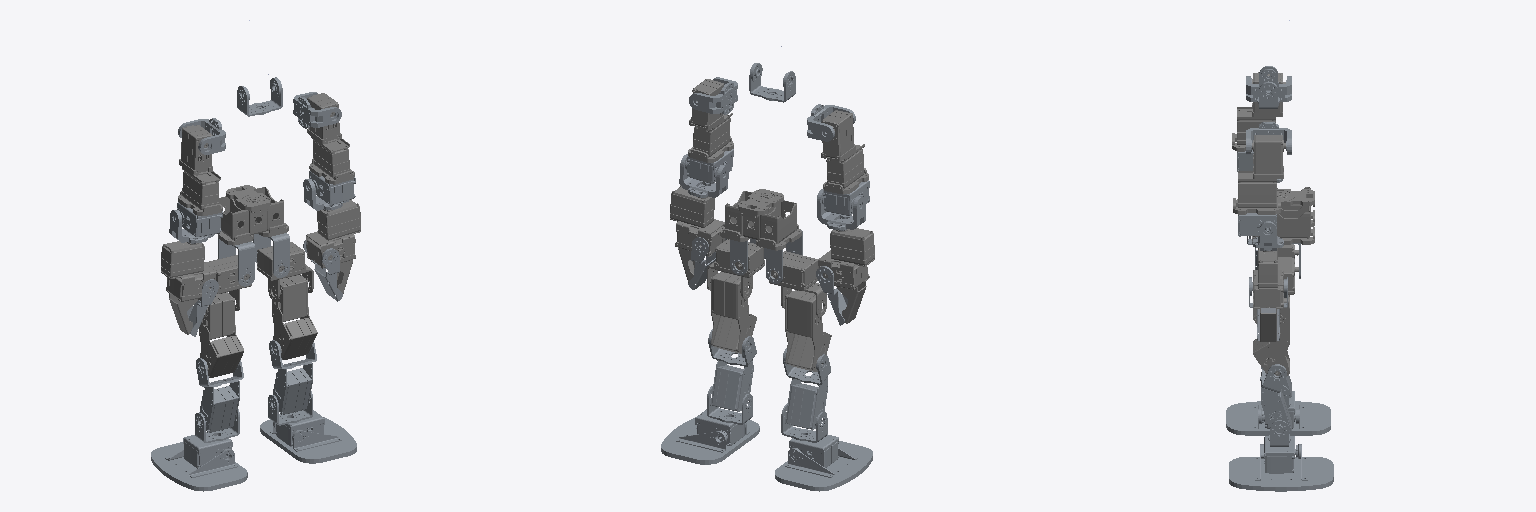
--- Facts derived from the render (not from the file) ---
3 views of the same robot in one strip: view 1: azimuth 30°, elevation 25°; view 2: azimuth 150°, elevation 25°; view 3: azimuth 270°, elevation 25° (orthographic).
Robot: robokit-atom — 30 links, 29 joints (27 continuous, 2 fixed); root link trunk; default pose: every joint at zero.
Links seen in each view (by area): view 1: pelvis, right_hand, right_foot, right_humerus, left_knee_link, left_hand, right_knee_link, left_humerus, left_foot, tibia_2, tibia_1, right_ankle_joint (+14 smaller); view 2: pelvis, right_hand, right_foot, right_knee_link, left_knee_link, left_hand, right_humerus, left_foot, tibia_2, tibia_1, left_humerus, right_ankle_joint (+14 smaller); view 3: left_foot, left_humerus, right_foot, left_hand, pelvis, tibia_2, left_ankle_joint, right_humerus, left_knee_link, u_neck, u_shoulder_1, left_pre_elbow (+3 smaller).
Link boxes in pixels (x1,y1,x2,y2): pelvis: (217,185,288,245); right_hand: (161,241,216,334); right_foot: (151,442,247,491); right_humerus: (178,125,222,215); left_knee_link: (272,274,317,359); left_hand: (306,199,360,293); right_knee_link: (199,292,243,377); left_humerus: (307,93,354,184); left_foot: (260,417,356,463); tibia_2: (269,340,316,414); tibia_1: (196,358,243,432); right_ankle_joint: (183,409,239,468); pelvis: (720,189,801,250); right_hand: (818,228,874,323); right_foot: (775,441,872,491); right_knee_link: (785,290,831,371); left_knee_link: (711,272,756,353); left_hand: (670,185,724,282); right_humerus: (821,110,868,194); left_foot: (661,417,759,464); tibia_2: (708,329,756,411); tibia_1: (783,348,830,430); left_humerus: (688,79,733,162); right_ankle_joint: (781,403,838,467); left_foot: (1229,444,1333,491); left_humerus: (1233,135,1285,214); right_foot: (1226,401,1330,435); left_hand: (1253,248,1283,341); pelvis: (1277,187,1314,244); tibia_2: (1260,364,1291,433); left_ankle_joint: (1264,408,1295,473); right_humerus: (1232,72,1285,151); left_knee_link: (1253,297,1289,375); u_neck: (1257,66,1279,108); u_shoulder_1: (1246,122,1291,154); left_pre_elbow: (1238,213,1276,236).
Bounding box of the posed robot: 0.2315 × 0.1123 × 0.494 m (x, y, z).
28 mesh visuals loaded from 30 distinct referenced files (28 binary STL); not drawn: 2 (reference not matched to a file when rendering).

robot.urdf — robokit-atom:
<?xml version="1.0" encoding="utf-8"?>

<!-- This URDF was automatically created by SolidWorks to URDF Exporter! Originally created by Stephen Brawner ([email redacted]) 

     Commit Version: 1.5.1-0-g916b5db  Build Version: 1.5.7152.31018

     For more information, please see http://wiki.ros.org/sw_urdf_exporter -->

<robot

  name="robokit-atom">

  <link

    name="trunk_1">

    <inertial>

      <origin

        xyz="0.00049613750860005 0.0229004465041265 -0.0446042851087862"

        rpy="0 0 0" />

      <mass

        value="0.522855766489177" />

      <inertia

        ixx="0.0003953596679444"

        ixy="1.11055335813116E-05"

        ixz="-1.41906719822236E-05"

        iyy="0.000617061895947365"

        iyz="-3.18439228347428E-06"

        izz="0.000392043856997511" />

    </inertial>

    <visual>

      <origin

        xyz="0 0 0"

        rpy="0 0 0" />

      <geometry>

        <mesh

          filename="package://robokit-atom_description/meshes/trunk_1.STL" />

      </geometry>

      <material

        name="">

        <color

          rgba="1 1 1 1" />

      </material>

    </visual>

    <collision>

      <origin

        xyz="0 0 0"

        rpy="0 0 0" />

      <geometry>

        <mesh

          filename="package://robokit-atom_description/meshes/trunk_1.STL" />

      </geometry>

    </collision>

  </link>

  <link

    name="u_neck">

    <inertial>

      <origin

        xyz="0.000264320510941577 0.0109732648966059 2.62618581766351E-15"

        rpy="0 0 0" />

      <mass

        value="0.0130011392237544" />

      <inertia

        ixx="1.19761205374274E-06"

        ixy="-3.70987578659839E-08"

        ixz="-4.88114992164222E-19"

        iyy="3.01332251835639E-06"

        iyz="-2.06863229336064E-20"

        izz="3.38897431921528E-06" />

    </inertial>

    <visual>

      <origin

        xyz="0 0 0"

        rpy="0 0 0" />

      <geometry>

        <mesh

          filename="package://robokit-atom_description/meshes/u_neck.STL" />

      </geometry>

      <material

        name="">

        <color

          rgba="0.592156862745098 0.619607843137255 0.650980392156863 1" />

      </material>

    </visual>

    <collision>

      <origin

        xyz="0 0 0"

        rpy="0 0 0" />

      <geometry>

        <mesh

          filename="package://robokit-atom_description/meshes/u_neck.STL" />

      </geometry>

    </collision>

  </link>

  <joint

    name="head_yaw"

    type="continuous">

    <origin

      xyz="0 0 0.019"

      rpy="-1.57079632679489 0 0" />

    <parent

      link="trunk_1" />

    <child

      link="u_neck" />

    <axis

      xyz="0 -1 0" />

  </joint>

  <link

    name="head">

    <inertial>

      <origin

        xyz="0.0276477193295828 0.0902940685780666 6.05561842868105E-05"

        rpy="0 0 0" />

      <mass

        value="0.934314838511598" />

      <inertia

        ixx="0.00175455277925189"

        ixy="4.88565985944184E-07"

        ixz="1.14787027986893E-08"

        iyy="0.00166992848544266"

        iyz="-9.62356192001647E-09"

        izz="0.000900470746538532" />

    </inertial>

    <visual>

      <origin

        xyz="0 0 0"

        rpy="0 0 0" />

      <geometry>

        <mesh

          filename="package://robokit-atom_description/meshes/head.STL" />

      </geometry>

      <material

        name="">

        <color

          rgba="0.556862745098039 0.556862745098039 0.556862745098039 1" />

      </material>

    </visual>

    <collision>

      <origin

        xyz="0 0 0"

        rpy="0 0 0" />

      <geometry>

        <mesh

          filename="package://robokit-atom_description/meshes/head.STL" />

      </geometry>

    </collision>

  </link>

  <joint

    name="head_pitch"

    type="continuous">

    <origin

      xyz="0 0 0"

      rpy="-1.5707963267949 0 -1.5707963267949" />

    <parent

      link="u_neck" />

    <child

      link="head" />

    <axis

      xyz="0 0 -1" />

  </joint>

  <link

    name="camera">

    <inertial>

      <origin

        xyz="5.17649616747773E-15 -3.88578058618805E-16 -4.23272528138341E-16"

        rpy="0 0 0" />

      <mass

        value="9.75000000000002E-07" />

      <inertia

        ixx="4.06250000000002E-14"

        ixy="-3.62993542287724E-31"

        ixz="-6.38918570285991E-31"

        iyy="4.06250000000001E-14"

        iyz="1.59729642571498E-31"

        izz="4.06250000000001E-14" />

    </inertial>

    <visual>

      <origin

        xyz="0 0 0"

        rpy="0 0 0" />

      <geometry>

        <mesh

          filename="package://robokit-atom_description/meshes/camera.STL" />

      </geometry>

      <material

        name="">

        <color

          rgba="0.792156862745098 0.819607843137255 0.933333333333333 1" />

      </material>

    </visual>

    <collision>

      <origin

        xyz="0 0 0"

        rpy="0 0 0" />

      <geometry>

        <mesh

          filename="package://robokit-atom_description/meshes/camera.STL" />

      </geometry>

    </collision>

  </link>

  <joint

    name="camera_frame"

    type="fixed">

    <origin

      xyz="0.0267434099643198 0.0177641070913566 4.99999996526588E-05"

      rpy="1.5707963267949 1.5707963267949 0" />

    <parent

      link="head" />

    <child

      link="camera" />

    <axis

      xyz="0 0 0" />

  </joint>

  <link

    name="u_shoulder_1">

    <inertial>

      <origin

        xyz="1.81306358815192E-13 -0.000641340632855175 -0.00659345592171711"

        rpy="0 0 0" />

      <mass

        value="0.0216490959620493" />

      <inertia

        ixx="8.13105749894706E-06"

        ixy="-2.72040053565123E-14"

        ixz="-6.49595439019734E-17"

        iyy="2.9422881153757E-06"

        iyz="-1.2598330126321E-07"

        izz="6.99828015320693E-06" />

    </inertial>

    <visual>

      <origin

        xyz="0 0 0"

        rpy="0 0 0" />

      <geometry>

        <mesh

          filename="package://robokit-atom_description/meshes/u_shoulder_1.STL" />

      </geometry>

      <material

        name="">

        <color

          rgba="0.592156862745098 0.619607843137255 0.650980392156863 1" />

      </material>

    </visual>

    <collision>

      <origin

        xyz="0 0 0"

        rpy="0 0 0" />

      <geometry>

        <mesh

          filename="package://robokit-atom_description/meshes/u_shoulder_1.STL" />

      </geometry>

    </collision>

  </link>

  <joint

    name="left_shoulder_pitch"

    type="continuous">

    <origin

      xyz="0.0550528426020857 0 -0.0179999999999997"

      rpy="3.14159265358979 1.5707963267949 0" />

    <parent

      link="trunk_1" />

    <child

      link="u_shoulder_1" />

    <axis

      xyz="0 0 -1" />

  </joint>

  <link

    name="left_humerus">

    <inertial>

      <origin

        xyz="4.08381245486922E-11 -0.0366732817414739 0.0100052458144246"

        rpy="0 0 0" />

      <mass

        value="0.108055931314796" />

      <inertia

        ixx="2.30548285340524E-05"

        ixy="-4.22918553902952E-11"

        ixz="-4.2309939426367E-11"

        iyy="1.91321620950096E-05"

        iyz="1.78233142046821E-07"

        izz="1.39624498444794E-05" />

    </inertial>

    <visual>

      <origin

        xyz="0 0 0"

        rpy="0 0 0" />

      <geometry>

        <mesh

          filename="package://robokit-atom_description/meshes/left_humerus.STL" />

      </geometry>

      <material

        name="">

        <color

          rgba="0.556862745098039 0.556862745098039 0.556862745098039 1" />

      </material>

    </visual>

    <collision>

      <origin

        xyz="0 0 0"

        rpy="0 0 0" />

      <geometry>

        <mesh

          filename="package://robokit-atom_description/meshes/left_humerus.STL" />

      </geometry>

    </collision>

  </link>

  <joint

    name="left_shoulder_roll"

    type="continuous">

    <origin

      xyz="0 -0.00297186387086125 -0.0211471573979146"

      rpy="1.5707963267949 1.51843644923509 -3.14159265358979" />

    <parent

      link="u_shoulder_1" />

    <child

      link="left_humerus" />

    <axis

      xyz="0 0 -1" />

  </joint>

  <link

    name="left_pre_elbow">

    <inertial>

      <origin

        xyz="-3.20915361541607E-05 -0.0113594174393189 -0.0136782837699915"

        rpy="0 0 0" />

      <mass

        value="0.0462382384447892" />

      <inertia

        ixx="7.80369306780788E-06"

        ixy="-1.56147420130457E-08"

        ixz="8.92652080569709E-11"

        iyy="5.27906305675419E-06"

        iyz="1.65065109079581E-09"

        izz="1.01724089971967E-05" />

    </inertial>

    <visual>

      <origin

        xyz="0 0 0"

        rpy="0 0 0" />

      <geometry>

        <mesh

          filename="package://robokit-atom_description/meshes/left_pre_elbow.STL" />

      </geometry>

      <material

        name="">

        <color

          rgba="0.592156862745098 0.619607843137255 0.650980392156863 1" />

      </material>

    </visual>

    <collision>

      <origin

        xyz="0 0 0"

        rpy="0 0 0" />

      <geometry>

        <mesh

          filename="package://robokit-atom_description/meshes/left_pre_elbow.STL" />

      </geometry>

    </collision>

  </link>

  <joint

    name="left_shoulder_twirl"

    type="continuous">

    <origin

      xyz="0 -0.0710000000000001 0.00347186387084668"

      rpy="-1.5707963267949 0 0" />

    <parent

      link="left_humerus" />

    <child

      link="left_pre_elbow" />

    <axis

      xyz="0 0 -1" />

  </joint>

  <link

    name="left_elbow">

    <inertial>

      <origin

        xyz="1.40764620012307E-11 -0.016852909405683 0.000526043392192449"

        rpy="0 0 0" />

      <mass

        value="0.0263941052965311" />

      <inertia

        ixx="8.22620109048213E-06"

        ixy="4.886820398765E-16"

        ixz="-2.71402465090607E-14"

        iyy="7.16435420729983E-06"

        iyz="-1.25983301520662E-07"

        izz="3.03743170696094E-06" />

    </inertial>

    <visual>

      <origin

        xyz="0 0 0"

        rpy="0 0 0" />

      <geometry>

        <mesh

          filename="package://robokit-atom_description/meshes/left_elbow.STL" />

      </geometry>

      <material

        name="">

        <color

          rgba="0.592156862745098 0.619607843137255 0.650980392156863 1" />

      </material>

    </visual>

    <collision>

      <origin

        xyz="0 0 0"

        rpy="0 0 0" />

      <geometry>

        <mesh

          filename="package://robokit-atom_description/meshes/left_elbow.STL" />

      </geometry>

    </collision>

  </link>

  <joint

    name="left_elbow_pitch"

    type="continuous">

    <origin

      xyz="0.000250000000003872 0 -0.0149999999999999"

      rpy="1.5707963267949 0 -1.57079632679493" />

    <parent

      link="left_pre_elbow" />

    <child

      link="left_elbow" />

    <axis

      xyz="0 0 1" />

  </joint>

  <link

    name="left_hand">

    <inertial>

      <origin

        xyz="-0.0179938599509411 -0.00563594040646999 1.54181979005648E-05"

        rpy="0 0 0" />

      <mass

        value="0.0943109576765618" />

      <inertia

        ixx="1.87340560270071E-05"

        ixy="-2.47535200903971E-07"

        ixz="-2.9373595488046E-14"

        iyy="1.19876997174146E-05"

        iyz="1.57602968382811E-08"

        izz="1.88259850453053E-05" />

    </inertial>

    <visual>

      <origin

        xyz="0 0 0"

        rpy="0 0 0" />

      <geometry>

        <mesh

          filename="package://robokit-atom_description/meshes/left_hand.STL" />

      </geometry>

      <material

        name="">

        <color

          rgba="0.556862745098039 0.556862745098039 0.556862745098039 1" />

      </material>

    </visual>

    <collision>

      <origin

        xyz="0 0 0"

        rpy="0 0 0" />

      <geometry>

        <mesh

          filename="package://robokit-atom_description/meshes/left_hand.STL" />

      </geometry>

    </collision>

  </link>

  <joint

    name="left_hand_twirl"

    type="continuous">

    <origin

      xyz="0 -0.047 0"

      rpy="1.5707963267949 0 1.57079632679489" />

    <parent

      link="left_elbow" />

    <child

      link="left_hand" />

    <axis

      xyz="-1 0 0" />

  </joint>

  <link

    name="left_finger">

    <inertial>

      <origin

        xyz="0.0026104257984549 -0.0181848034403391 -0.0191307335296302"

        rpy="0 0 0" />

      <mass

        value="0.0091110886555886" />

      <inertia

        ixx="3.27295117248011E-06"

        ixy="2.91076781921759E-07"

        ixz="-4.56804920428464E-09"

        iyy="1.43869115753782E-06"

        iyz="3.32144793388496E-08"

        izz="2.25791281347612E-06" />

    </inertial>

    <visual>

      <origin

        xyz="0 0 0"

        rpy="0 0 0" />

      <geometry>

        <mesh

          filename="package://robokit-atom_description/meshes/left_finger.STL" />

      </geometry>

      <material

        name="">

        <color

          rgba="0.592156862745098 0.619607843137255 0.650980392156863 1" />

      </material>

    </visual>

    <collision>

      <origin

        xyz="0 0 0"

        rpy="0 0 0" />

      <geometry>

        <mesh

          filename="package://robokit-atom_description/meshes/left_finger.STL" />

      </geometry>

    </collision>

  </link>

  <joint

    name="left_finger_pitch"

    type="continuous">

    <origin

      xyz="-0.0304999999999991 0.0113001797402845 0.0192500000000059"

      rpy="0 0 -1.57079632679489" />

    <parent

      link="left_hand" />

    <child

      link="left_finger" />

    <axis

      xyz="0 0 -1" />

  </joint>

  <link

    name="u_shoulder_2">

    <inertial>

      <origin

        xyz="-2.93085417046868E-10 0.0145537014761975 0.000641340632855471"

        rpy="0 0 0" />

      <mass

        value="0.0216490959620493" />

      <inertia

        ixx="8.13105749894703E-06"

        ixy="2.2761253140476E-14"

        ixz="2.46653504300701E-14"

        iyy="6.99828015320691E-06"

        iyz="1.25983301263197E-07"

        izz="2.94228811537569E-06" />

    </inertial>

    <visual>

      <origin

        xyz="0 0 0"

        rpy="0 0 0" />

      <geometry>

        <mesh

          filename="package://robokit-atom_description/meshes/u_shoulder_2.STL" />

      </geometry>

      <material

        name="">

        <color

          rgba="0.592156862745098 0.619607843137255 0.650980392156863 1" />

      </material>

    </visual>

    <collision>

      <origin

        xyz="0 0 0"

        rpy="0 0 0" />

      <geometry>

        <mesh

          filename="package://robokit-atom_description/meshes/u_shoulder_2.STL" />

      </geometry>

    </collision>

  </link>

  <joint

    name="right_shoulder_pitch"

    type="continuous">

    <origin

      xyz="-0.0762 0 -0.0180000000000002"

      rpy="1.57079632983352 -1.57079630572147 3.14159265055117" />

    <parent

      link="trunk_1" />

    <child

      link="u_shoulder_2" />

    <axis

      xyz="0 -1 0" />

  </joint>

  <link

    name="right_humerus">

    <inertial>

      <origin

        xyz="7.89607823570293E-11 -0.036673281470574 -0.00803338190205835"

        rpy="0 0 0" />

      <mass

        value="0.108055930898526" />

      <inertia

        ixx="2.30548284984716E-05"

        ixy="4.23224558239494E-11"

        ixz="-4.22906239038116E-11"

        iyy="1.91321621249474E-05"

        iyz="-1.78233154682525E-07"

        izz="1.39624497603346E-05" />

    </inertial>

    <visual>

      <origin

        xyz="0 0 0"

        rpy="0 0 0" />

      <geometry>

        <mesh

          filename="package://robokit-atom_description/meshes/right_humerus.STL" />

      </geometry>

      <material

        name="">

        <color

          rgba="0.556862745098039 0.556862745098039 0.556862745098039 1" />

      </material>

    </visual>

    <collision>

      <origin

        xyz="0 0 0"

        rpy="0 0 0" />

      <geometry>

        <mesh

          filename="package://robokit-atom_description/meshes/right_humerus.STL" />

      </geometry>

    </collision>

  </link>

  <joint

    name="right_shoulder_roll"

    type="continuous">

    <origin

      xyz="0 0 0"

      rpy="0 0 -1.52409707845317" />

    <parent

      link="u_shoulder_2" />

    <child

      link="right_humerus" />

    <axis

      xyz="0 0 1" />

  </joint>

  <link

    name="right_pre_elbow">

    <inertial>

      <origin

        xyz="-0.00028209147740392 -0.0113594172256715 -0.0136782836589906"

        rpy="0 0 0" />

      <mass

        value="0.0462382380005362" />

      <inertia

        ixx="7.80369306000345E-06"

        ixy="-1.56147490807496E-08"

        ixz="8.93130317358286E-11"

        iyy="5.27906301037145E-06"

        iyz="1.65066398670069E-09"

        izz="1.01724089658795E-05" />

    </inertial>

    <visual>

      <origin

        xyz="0 0 0"

        rpy="0 0 0" />

      <geometry>

        <mesh

          filename="package://robokit-atom_description/meshes/right_pre_elbow.STL" />

      </geometry>

      <material

        name="">

        <color

          rgba="0.592156862745098 0.619607843137255 0.650980392156863 1" />

      </material>

    </visual>

    <collision>

      <origin

        xyz="0 0 0"

        rpy="0 0 0" />

      <geometry>

        <mesh

          filename="package://robokit-atom_description/meshes/right_pre_elbow.STL" />

      </geometry>

    </collision>

  </link>

  <joint

    name="right_shoulder_twirl"

    type="continuous">

    <origin

      xyz="-0.000249999999984485 -0.071 -0.00149999999999298"

      rpy="1.57079632679489 0 3.14159265358979" />

    <parent

      link="right_humerus" />

    <child

      link="right_pre_elbow" />

    <axis

      xyz="0 0 -1" />

  </joint>

  <link

    name="right_elbow">

    <inertial>

      <origin

        xyz="1.28375179410389E-11 -0.01685290940512 -0.000526043408046642"

        rpy="0 0 0" />

      <mass

        value="0.0263941052952769" />

      <inertia

        ixx="8.22620109053937E-06"

        ixy="5.5843300637688E-16"

        ixz="-2.7145135118328E-14"

        iyy="7.16435420734095E-06"

        iyz="1.25983301010983E-07"

        izz="3.03743170696228E-06" />

    </inertial>

    <visual>

      <origin

        xyz="0 0 0"

        rpy="0 0 0" />

      <geometry>

        <mesh

          filename="package://robokit-atom_description/meshes/right_elbow.STL" />

      </geometry>

      <material

        name="">

        <color

          rgba="0.592156862745098 0.619607843137255 0.650980392156863 1" />

      </material>

    </visual>

    <collision>

      <origin

        xyz="0 0 0"

        rpy="0 0 0" />

      <geometry>

        <mesh

          filename="package://robokit-atom_description/meshes/right_elbow.STL" />

      </geometry>

    </collision>

  </link>

  <joint

    name="right_elbow_pitch"

    type="continuous">

    <origin

      xyz="0 0 -0.015"

      rpy="1.57079632679489 0 1.57079632679489" />

    <parent

      link="right_pre_elbow" />

    <child

      link="right_elbow" />

    <axis

      xyz="0 0 1" />

  </joint>

  <link

    name="right_hand">

    <inertial>

      <origin

        xyz="-0.0169938599768454 -0.00563594039750882 1.54182117916438E-05"

        rpy="0 0 0" />

      <mass

        value="0.09431095759233" />

      <inertia

        ixx="1.8734055996203E-05"

        ixy="-2.47535212049273E-07"

        ixz="-1.21215045800667E-14"

        iyy="1.19876997106438E-05"

        iyz="1.57603047317209E-08"

        izz="1.88259850175947E-05" />

    </inertial>

    <visual>

      <origin

        xyz="0 0 0"

        rpy="0 0 0" />

      <geometry>

        <mesh

          filename="package://robokit-atom_description/meshes/right_hand.STL" />

      </geometry>

      <material

        name="">

        <color

          rgba="0.556862745098039 0.556862745098039 0.556862745098039 1" />

      </material>

    </visual>

    <collision>

      <origin

        xyz="0 0 0"

        rpy="0 0 0" />

      <geometry>

        <mesh

          filename="package://robokit-atom_description/meshes/right_hand.STL" />

      </geometry>

    </collision>

  </link>

  <joint

    name="right_hand_twirl"

    type="continuous">

    <origin

      xyz="0 -0.048 0"

      rpy="1.5707963267949 0 1.5707963267949" />

    <parent

      link="right_elbow" />

    <child

      link="right_hand" />

    <axis

      xyz="-1 0 0" />

  </joint>

  <link

    name="right_finger">

    <inertial>

      <origin

        xyz="0.00345648756024929 -0.0180431175792823 -0.0191307335311278"

        rpy="0 0 0" />

      <mass

        value="0.00911108863683015" />

      <inertia

        ixx="3.24180727523416E-06"

        ixy="3.75342179795892E-07"

        ixz="-6.11359602340152E-09"

        iyy="1.46983505174294E-06"

        iyz="3.29650218936322E-08"

        izz="2.25791280979684E-06" />

    </inertial>

    <visual>

      <origin

        xyz="0 0 0"

        rpy="0 0 0" />

      <geometry>

        <mesh

          filename="package://robokit-atom_description/meshes/right_finger.STL" />

      </geometry>

      <material

        name="">

        <color

          rgba="0.592156862745098 0.619607843137255 0.650980392156863 1" />

      </material>

    </visual>

    <collision>

      <origin

        xyz="0 0 0"

        rpy="0 0 0" />

      <geometry>

        <mesh

          filename="package://robokit-atom_description/meshes/right_finger.STL" />

      </geometry>

    </collision>

  </link>

  <joint

    name="right_finger_pitch"

    type="continuous">

    <origin

      xyz="-0.0295000000000001 0.0113001797402872 0.0192500000000014"

      rpy="0 0 -1.61749555498595" />

    <parent

      link="right_hand" />

    <child

      link="right_finger" />

    <axis

      xyz="0 0 1" />

  </joint>

  <link

    name="pelvis">

    <inertial>

      <origin

        xyz="1.40435664846283E-08 0.0104513929633443 -0.00251213839731507"

        rpy="0 0 0" />

      <mass

        value="0.197712399995098" />

      <inertia

        ixx="5.38102007372109E-05"

        ixy="-3.32004042447692E-11"

        ixz="-7.96894886773734E-11"

        iyy="2.6801447149139E-05"

        iyz="-9.42843539710837E-07"

        izz="5.20334209077826E-05" />

    </inertial>

    <visual>

      <origin

        xyz="0 0 0"

        rpy="0 0 0" />

      <geometry>

        <mesh

          filename="package://robokit-atom_description/meshes/pelvis.STL" />

      </geometry>

      <material

        name="">

        <color

          rgba="0.556862745098039 0.556862745098039 0.556862745098039 1" />

      </material>

    </visual>

    <collision>

      <origin

        xyz="0 0 0"

        rpy="0 0 0" />

      <geometry>

        <mesh

          filename="package://robokit-atom_description/meshes/pelvis.STL" />

      </geometry>

    </collision>

  </link>

  <joint

    name="pelvis_pitch"

    type="continuous">

    <origin

      xyz="0 0.0119499999999996 -0.131000000000001"

      rpy="0 0 0" />

    <parent

      link="trunk_1" />

    <child

      link="pelvis" />

    <axis

      xyz="0 0 -1" />

  </joint>

  <link

    name="u_block_2">

    <inertial>

      <origin

        xyz="9.85322934354826E-16 0.000222124945046554 0.00645153621726086"

        rpy="0 0 0" />

      <mass

        value="0.0119217053151813" />

      <inertia

        ixx="6.15184467855973E-06"

        ixy="-1.25957999295351E-19"

        ixz="1.3262088391518E-20"

        iyy="2.68582937937327E-06"

        iyz="6.02064475174989E-08"

        izz="4.33546445767003E-06" />

    </inertial>

    <visual>

      <origin

        xyz="0 0 0"

        rpy="0 0 0" />

      <geometry>

        <mesh

          filename="package://robokit-atom_description/meshes/u_block_2.STL" />

      </geometry>

      <material

        name="">

        <color

          rgba="0.592156862745098 0.619607843137255 0.650980392156863 1" />

      </material>

    </visual>

    <collision>

      <origin

        xyz="0 0 0"

        rpy="0 0 0" />

      <geometry>

        <mesh

          filename="package://robokit-atom_description/meshes/u_block_2.STL" />

      </geometry>

    </collision>

  </link>

  <joint

    name="left_hip_yaw"

    type="continuous">

    <origin

      xyz="0.021 0 -0.0405"

      rpy="0 0 3.1416" />

    <parent

      link="pelvis" />

    <child

      link="u_block_2" />

    <axis

      xyz="0 0 -1" />

  </joint>

  <link

    name="left_hip_joint">

    <inertial>

      <origin

        xyz="0.00473942684203732 -0.013195435168564 0.000223016913043151"

        rpy="0 0 0" />

      <mass

        value="0.0549919434936329" />

      <inertia

        ixx="1.30696526153425E-05"

        ixy="3.53985787332633E-08"

        ixz="-2.645471661761E-11"

        iyy="6.32105610210363E-06"

        iyz="-1.58727638024289E-08"

        izz="1.10846805707891E-05" />

    </inertial>

    <visual>

      <origin

        xyz="0 0 0"

        rpy="0 0 0" />

      <geometry>

        <mesh

          filename="package://robokit-atom_description/meshes/left_hip_joint.STL" />

      </geometry>

      <material

        name="">

        <color

          rgba="0.556862745098039 0.556862745098039 0.556862745098039 1" />

      </material>

    </visual>

    <collision>

      <origin

        xyz="0 0 0"

        rpy="0 0 0" />

      <geometry>

        <mesh

          filename="package://robokit-atom_description/meshes/left_hip_joint.STL" />

      </geometry>

    </collision>

  </link>

  <joint

    name="left_hip_roll"

    type="continuous">

    <origin

      xyz="0 0.000500000000000028 -0.0149999999999987"

      rpy="1.5707963267949 1.5707963267949 0" />

    <parent

      link="u_block_2" />

    <child

      link="left_hip_joint" />

    <axis

      xyz="0 0 1" />

  </joint>

  <link

    name="left_knee_link">

    <inertial>

      <origin

        xyz="-0.0347347348139205 -0.00418009072334563 -0.000249999949346193"

        rpy="0 0 0" />

      <mass

        value="0.104480937840143" />

      <inertia

        ixx="1.24466674947374E-05"

        ixy="4.04203628481723E-07"

        ixz="2.89790458598777E-08"

        iyy="2.37916370291091E-05"

        iyz="-8.46829652045769E-09"

        izz="2.32092919819631E-05" />

    </inertial>

    <visual>

      <origin

        xyz="0 0 0"

        rpy="0 0 0" />

      <geometry>

        <mesh

          filename="package://robokit-atom_description/meshes/left_knee.STL" />

      </geometry>

      <material

        name="">

        <color

          rgba="0.556862745098039 0.556862745098039 0.556862745098039 1" />

      </material>

    </visual>

    <collision>

      <origin

        xyz="0 0 0"

        rpy="0 0 0" />

      <geometry>

        <mesh

          filename="package://robokit-atom_description/meshes/left_knee.STL" />

      </geometry>

    </collision>

  </link>

  <joint

    name="left_hip_pitch"

    type="continuous">

    <origin

      xyz="0.0355 -0.0225 0.00025"

      rpy="1.5708 0 -3.1416" />

    <parent

      link="left_hip_joint" />

    <child

      link="left_knee_link" />

    <axis

      xyz="0 0 -1" />

  </joint>

  <link

    name="tibia_2">

    <inertial>

      <origin

        xyz="-0.0127606071192313 0.040080139734472 0.000145774650487852"

        rpy="0 0 0" />

      <mass

        value="0.067778527586917" />

      <inertia

        ixx="1.30318512065637E-05"

        ixy="3.39473922534954E-06"

        ixz="-9.44616372424153E-09"

        iyy="1.09442995897016E-05"

        iyz="-2.44794118596932E-08"

        izz="1.21439109712014E-05" />

    </inertial>

    <visual>

      <origin

        xyz="0 0 0"

        rpy="0 0 0" />

      <geometry>

        <mesh

          filename="package://robokit-atom_description/meshes/tibia_2.STL" />

      </geometry>

      <material

        name="">

        <color

          rgba="0.592156862745098 0.619607843137255 0.650980392156863 1" />

      </material>

    </visual>

    <collision>

      <origin

        xyz="0 0 0"

        rpy="0 0 0" />

      <geometry>

        <mesh

          filename="package://robokit-atom_description/meshes/tibia_2.STL" />

      </geometry>

    </collision>

  </link>

  <joint

    name="left_knee"

    type="continuous">

    <origin

      xyz="-0.0650801874462834 -0.00265551824022087 0"

      rpy="-3.14159265358979 0 -1.21807923767551" />

    <parent

      link="left_knee_link" />

    <child

      link="tibia_2" />

    <axis

      xyz="0 0 -1" />

  </joint>

  <link

    name="left_ankle_joint">

    <inertial>

      <origin

        xyz="2.69832734496895E-05 0.0307604063004211 0.00950305262645398"

        rpy="0 0 0" />

      <mass

        value="0.0549919443536752" />

      <inertia

        ixx="1.10846805710888E-05"

        ixy="8.92850974843502E-11"

        ixz="-1.5614722436031E-08"

        iyy="1.30696526874767E-05"

        iyz="-3.53985783713071E-08"

        izz="6.32105617383499E-06" />

    </inertial>

    <visual>

      <origin

        xyz="0 0 0"

        rpy="0 0 0" />

      <geometry>

        <mesh

          filename="package://robokit-atom_description/meshes/left_ankle_joint.STL" />

      </geometry>

      <material

        name="">

        <color

          rgba="0.592156862745098 0.619607843137255 0.650980392156863 1" />

      </material>

    </visual>

    <collision>

      <origin

        xyz="0 0 0"

        rpy="0 0 0" />

      <geometry>

        <mesh

          filename="package://robokit-atom_description/meshes/left_ankle_joint.STL" />

      </geometry>

    </collision>

  </link>

  <joint

    name="left_ankle_pitch"

    type="continuous">

    <origin

      xyz="-0.024534 0.05896 0"

      rpy="0 0 0.35272" />

    <parent

      link="tibia_2" />

    <child

      link="left_ankle_joint" />

    <axis

      xyz="0 0 -1" />

  </joint>

  <link

    name="left_foot">

    <inertial>

      <origin

        xyz="-0.012307197373586 -0.0217032943606653 -0.000809364805023378"

        rpy="0 0 0" />

      <mass

        value="0.0465225994000907" />

      <inertia

        ixx="5.30468225212706E-05"

        ixy="-1.12408830943379E-07"

        ixz="2.28259676775524E-10"

        iyy="3.58756931779256E-05"

        iyz="5.05048060886674E-10"

        izz="1.76515895178126E-05" />

    </inertial>

    <visual>

      <origin

        xyz="0 0 0"

        rpy="0 0 0" />

      <geometry>

        <mesh

          filename="package://robokit-atom_description/meshes/left_foot.STL" />

      </geometry>

      <material

        name="">

        <color

          rgba="0.592156862745098 0.619607843137255 0.650980392156863 1" />

      </material>

    </visual>

    <collision>

      <origin

        xyz="0 0 0"

        rpy="0 0 0" />

      <geometry>

        <mesh

          filename="package://robokit-atom_description/meshes/left_foot.STL" />

      </geometry>

    </collision>

  </link>

  <joint

    name="left_ankle_roll"

    type="continuous">

    <origin

      xyz="-0.00055 0.0355 0"

      rpy="-1.5708 0 -1.5708" />

    <parent

      link="left_ankle_joint" />

    <child

      link="left_foot" />

    <axis

      xyz="0 0 -1" />

  </joint>

  <link

    name="u_block_1">

    <inertial>

      <origin

        xyz="1.2490009027033E-15 0.000222124945045666 0.00645153621726077"

        rpy="0 0 0" />

      <mass

        value="0.0119217053151813" />

      <inertia

        ixx="6.15184467855973E-06"

        ixy="-1.26724401699364E-19"

        ixz="1.37985825777153E-20"

        iyy="2.68582937937327E-06"

        iyz="6.02064475174926E-08"

        izz="4.33546445767003E-06" />

    </inertial>

    <visual>

      <origin

        xyz="0 0 0"

        rpy="0 0 0" />

      <geometry>

        <mesh

          filename="package://robokit-atom_description/meshes/u_block_1.STL" />

      </geometry>

      <material

        name="">

        <color

          rgba="0.592156862745098 0.619607843137255 0.650980392156863 1" />

      </material>

    </visual>

    <collision>

      <origin

        xyz="0 0 0"

        rpy="0 0 0" />

      <geometry>

        <mesh

          filename="package://robokit-atom_description/meshes/u_block_1.STL" />

      </geometry>

    </collision>

  </link>

  <joint

    name="right_hip_yaw"

    type="continuous">

    <origin

      xyz="-0.021 0 -0.0405"

      rpy="0 0 3.1416" />

    <parent

      link="pelvis" />

    <child

      link="u_block_1" />

    <axis

      xyz="0 0 -1" />

  </joint>

  <link

    name="right_hip_joint">

    <inertial>

      <origin

        xyz="-0.00473959369955573 -0.0130991261799329 0.000224267661365095"

        rpy="0 0 0" />

      <mass

        value="0.0549919443536751" />

      <inertia

        ixx="1.30696526874767E-05"

        ixy="3.86687539872233E-08"

        ixz="-2.64497621413053E-11"

        iyy="6.32105617383497E-06"

        iyz="-1.56147224360269E-08"

        izz="1.10846805710888E-05" />

    </inertial>

    <visual>

      <origin

        xyz="0 0 0"

        rpy="0 0 0" />

      <geometry>

        <mesh

          filename="package://robokit-atom_description/meshes/right_hip_joint.STL" />

      </geometry>

      <material

        name="">

        <color

          rgba="0.556862745098039 0.556862745098039 0.556862745098039 1" />

      </material>

    </visual>

    <collision>

      <origin

        xyz="0 0 0"

        rpy="0 0 0" />

      <geometry>

        <mesh

          filename="package://robokit-atom_description/meshes/right_hip_joint.STL" />

      </geometry>

    </collision>

  </link>

  <joint

    name="right_hip_roll"

    type="continuous">

    <origin

      xyz="0 0.000499999999999947 -0.0150000000000013"

      rpy="1.5707963267949 -1.5707963267949 0" />

    <parent

      link="u_block_1" />

    <child

      link="right_hip_joint" />

    <axis

      xyz="0 0 1" />

  </joint>

  <link

    name="right_knee_link">

    <inertial>

      <origin

        xyz="0.00418009079486925 -0.0347347349927054 -0.000250000046850989"

        rpy="0 0 0" />

      <mass

        value="0.104480937839157" />

      <inertia

        ixx="2.37916370273473E-05"

        ixy="-4.04203628670354E-07"

        ixz="8.46829125233902E-09"

        iyy="1.2446667496421E-05"

        iyz="2.8979053283351E-08"

        izz="2.32092919819621E-05" />

    </inertial>

    <visual>

      <origin

        xyz="0 0 0"

        rpy="0 0 0" />

      <geometry>

        <mesh

          filename="package://robokit-atom_description/meshes/right_knee.STL" />

      </geometry>

      <material

        name="">

        <color

          rgba="0.556862745098039 0.556862745098039 0.556862745098039 1" />

      </material>

    </visual>

    <collision>

      <origin

        xyz="0 0 0"

        rpy="0 0 0" />

      <geometry>

        <mesh

          filename="package://robokit-atom_description/meshes/right_knee.STL" />

      </geometry>

    </collision>

  </link>

  <joint

    name="right_hip_pitch"

    type="continuous">

    <origin

      xyz="-0.0355 -0.0235 0.00025"

      rpy="1.5708 1.5708 0" />

    <parent

      link="right_hip_joint" />

    <child

      link="right_knee_link" />

    <axis

      xyz="0 0 1" />

  </joint>

  <link

    name="tibia_1">

    <inertial>

      <origin

        xyz="-0.012742658633531 0.040089046929897 -0.000160875841038813"

        rpy="0 0 0" />

      <mass

        value="0.0677785271611077" />

      <inertia

        ixx="1.30392251391265E-05"

        ixy="3.38913967772404E-06"

        ixz="-9.46588823995119E-09"

        iyy="1.09369255855437E-05"

        iyz="-2.44891935571644E-08"

        izz="1.2143910971053E-05" />

    </inertial>

    <visual>

      <origin

        xyz="0 0 0"

        rpy="0 0 0" />

      <geometry>

        <mesh

          filename="package://robokit-atom_description/meshes/tibia_1.STL" />

      </geometry>

      <material

        name="">

        <color

          rgba="0.592156862745098 0.619607843137255 0.650980392156863 1" />

      </material>

    </visual>

    <collision>

      <origin

        xyz="0 0 0"

        rpy="0 0 0" />

      <geometry>

        <mesh

          filename="package://robokit-atom_description/meshes/tibia_1.STL" />

      </geometry>

    </collision>

  </link>

  <joint

    name="right_knee"

    type="continuous">

    <origin

      xyz="0.00265551823642486 -0.0650801874464379 0"

      rpy="-3.14159265358979 0 0.352717089119385" />

    <parent

      link="right_knee_link" />

    <child

      link="tibia_1" />

    <axis

      xyz="0 0 -1" />

  </joint>

  <link

    name="right_ankle_joint">

    <inertial>

      <origin

        xyz="-2.69831794660266E-05 0.0307604061885636 -0.0095993614215939"

        rpy="0 0 0" />

      <mass

        value="0.0549919439208966" />

      <inertia

        ixx="1.1084680570938E-05"

        ixy="-8.92910471539242E-11"

        ixz="-1.56147248922403E-08"

        iyy="1.30696526520439E-05"

        iyz="-3.86998838708703E-08"

        izz="6.32105613711472E-06" />

    </inertial>

    <visual>

      <origin

        xyz="0 0 0"

        rpy="0 0 0" />

      <geometry>

        <mesh

          filename="package://robokit-atom_description/meshes/right_ankle_joint.STL" />

      </geometry>

      <material

        name="">

        <color

          rgba="0.592156862745098 0.619607843137255 0.650980392156863 1" />

      </material>

    </visual>

    <collision>

      <origin

        xyz="0 0 0"

        rpy="0 0 0" />

      <geometry>

        <mesh

          filename="package://robokit-atom_description/meshes/right_ankle_joint.STL" />

      </geometry>

    </collision>

  </link>

  <joint

    name="right_ankle_pitch"

    type="continuous">

    <origin

      xyz="-0.024534 0.05896 0"

      rpy="0 0 0.35272" />

    <parent

      link="tibia_1" />

    <child

      link="right_ankle_joint" />

    <axis

      xyz="0 0 -1" />

  </joint>

  <link

    name="right_foot">

    <inertial>

      <origin

        xyz="-0.0123071976650411 -0.021703294195408 -0.000809364805647588"

        rpy="0 0 0" />

      <mass

        value="0.0465225994000906" />

      <inertia

        ixx="5.30468225182517E-05"

        ixy="-1.12409061513478E-07"

        ixz="2.28259683480059E-10"

        iyy="3.58756931809444E-05"

        iyz="5.0504805789663E-10"

        izz="1.76515895178125E-05" />

    </inertial>

    <visual>

      <origin

        xyz="0 0 0"

        rpy="0 0 0" />

      <geometry>

        <mesh

          filename="package://robokit-atom_description/meshes/right_foot.STL" />

      </geometry>

      <material

        name="">

        <color

          rgba="0.592156862745098 0.619607843137255 0.650980392156863 1" />

      </material>

    </visual>

    <collision>

      <origin

        xyz="0 0 0"

        rpy="0 0 0" />

      <geometry>

        <mesh

          filename="package://robokit-atom_description/meshes/right_foot.STL" />

      </geometry>

    </collision>

  </link>

  <joint

    name="right_ankle_roll"

    type="continuous">

    <origin

      xyz="0.00025 0.0355 0"

      rpy="1.5708 0 -1.5708" />

    <parent

      link="right_ankle_joint" />

    <child

      link="right_foot" />

    <axis

      xyz="0 0 1" />

  </joint>

  <link

    name="trunk">

    <visual>

      <origin

        xyz="0 0 0"

        rpy="0 0 0" />

      <geometry>

        <mesh

          filename="package://robokit-atom_description/meshes/trunk.STL" />

      </geometry>

      <material

        name="">

        <color

          rgba="0.792156862745098 0.819607843137255 0.933333333333333 1" />

      </material>

    </visual>

    <collision>

      <origin

        xyz="0 0 0"

        rpy="0 0 0" />

      <geometry>

        <mesh

          filename="package://robokit-atom_description/meshes/trunk.STL" />

      </geometry>

    </collision>

  </link>

  <joint

    name="trunk_frame"

    type="fixed">

    <origin

      xyz="0 -0.022 -0.091"

      rpy="0 0 0" />

    <parent

      link="trunk" />

    <child

      link="trunk_1" />

    <axis

      xyz="0 0 0" />

  </joint>

</robot>
